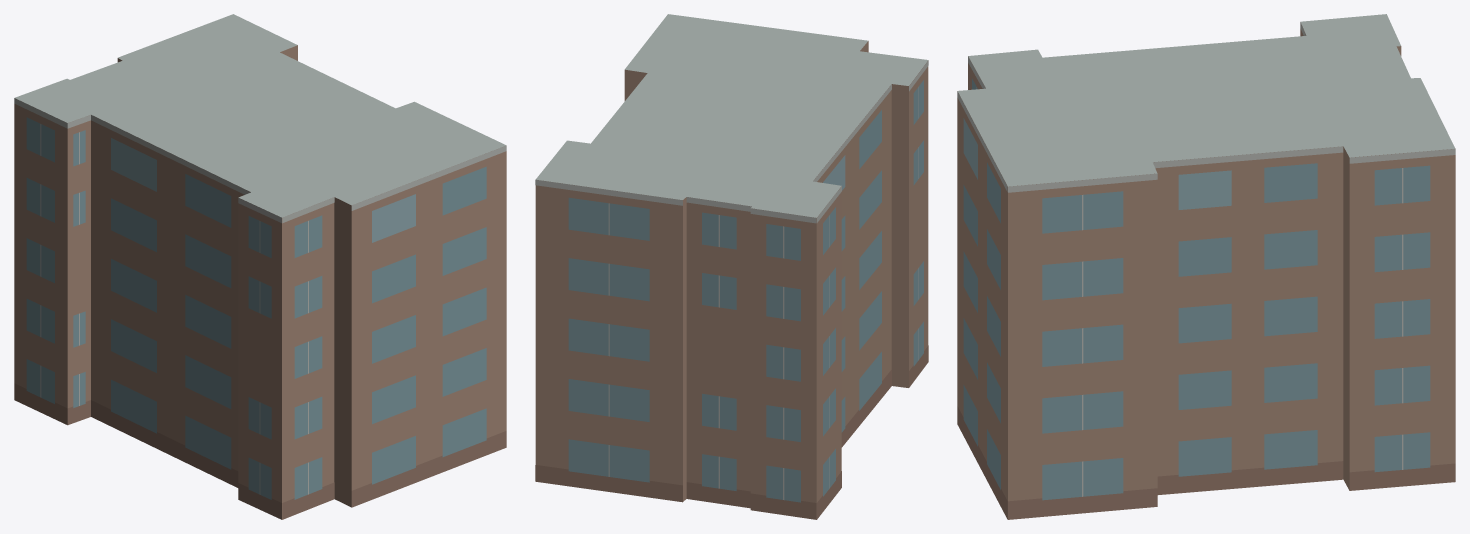
Rendered from survey-upis-32871251.glb.
3 views of the same model, side by side, from view 1: azimuth 30°, elevation 25°; view 2: azimuth 150°, elevation 25°; view 3: azimuth 270°, elevation 25° (orthographic). The views are drawn at different scales.
Parts seen in each view (by area): view 1: survey-upis-32871251.tmp; view 2: survey-upis-32871251.tmp; view 3: survey-upis-32871251.tmp.
Boxes of the visible parts, x1=… form: survey-upis-32871251.tmp: x1=14, y1=14, x2=506, y2=519; survey-upis-32871251.tmp: x1=535, y1=14, x2=928, y2=519; survey-upis-32871251.tmp: x1=957, y1=14, x2=1455, y2=519.
Bounding box in the file's own units: 14.5 × 13.05 × 17.68.
